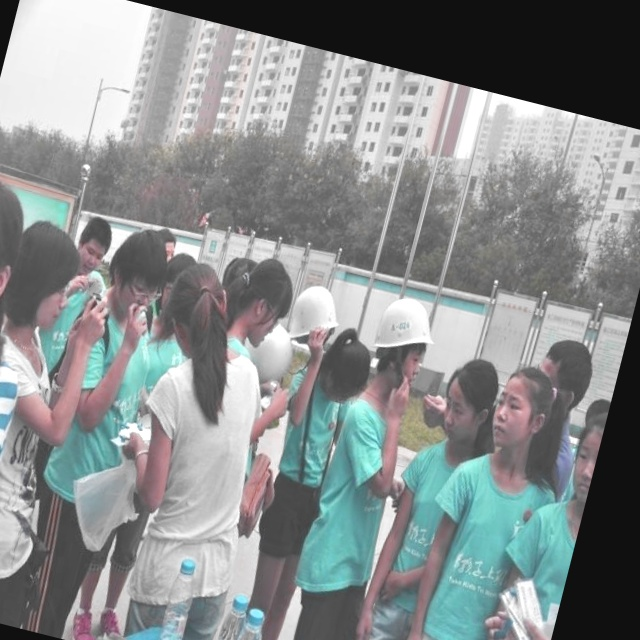Con_Casco: (367, 292, 442, 388), (283, 280, 347, 358)
Sin_Casco_Mascarrilla: (432, 354, 508, 453)
